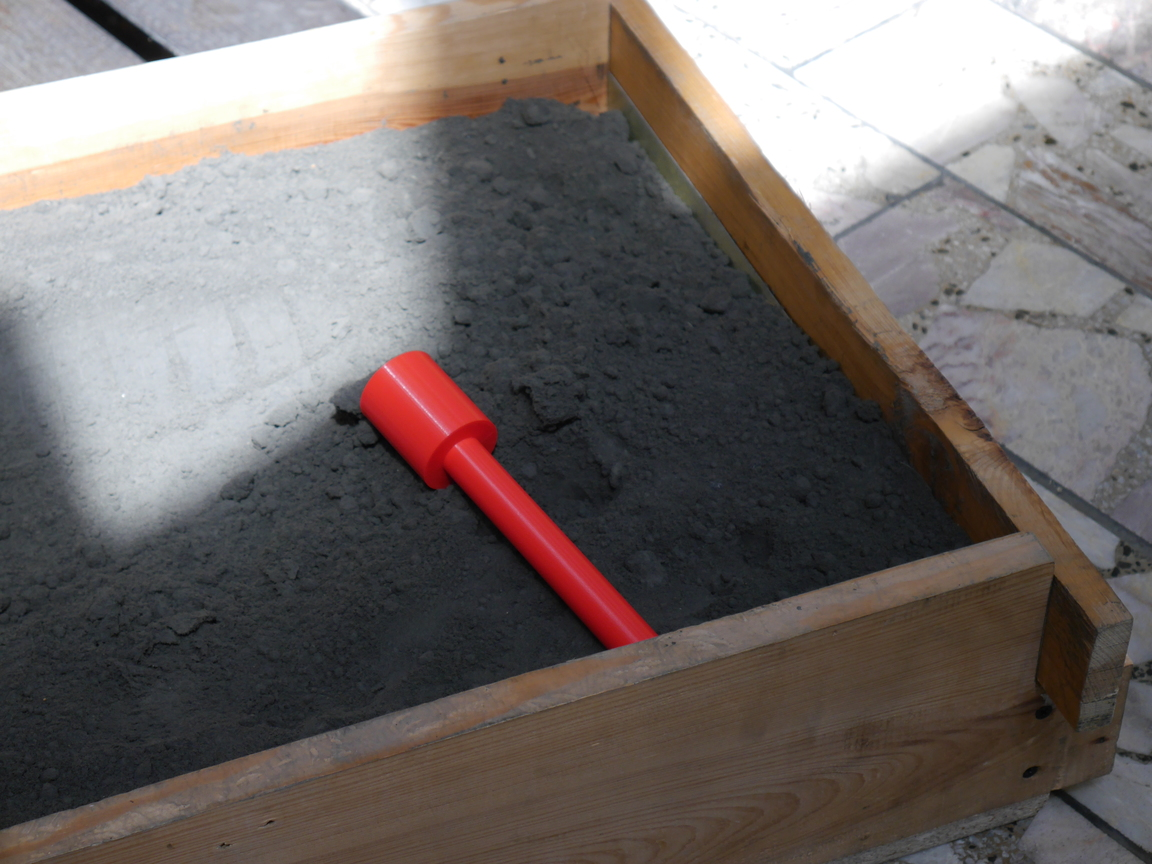cargo_g: (359, 351, 656, 646)
